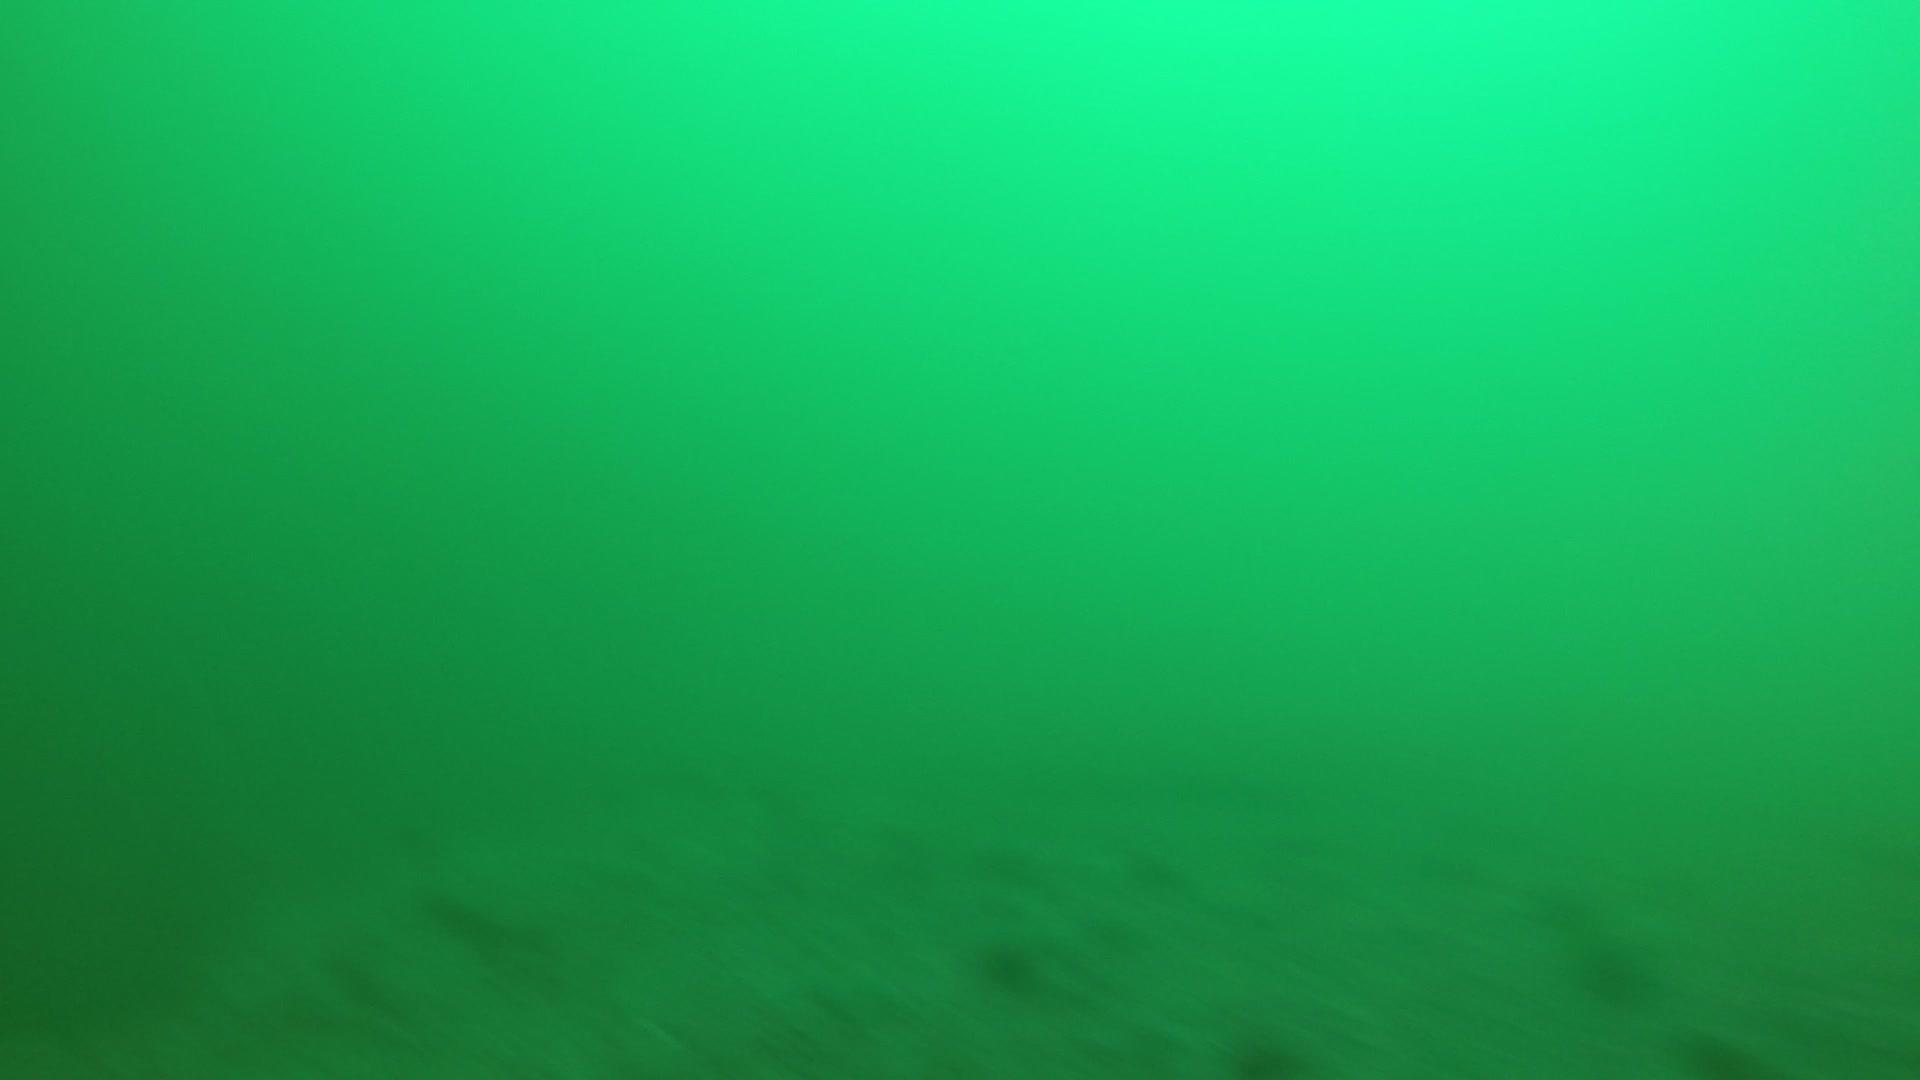echinus: (1573, 932, 1654, 1007), (971, 930, 1044, 996), (1224, 1025, 1308, 1079), (1675, 1025, 1760, 1077)
